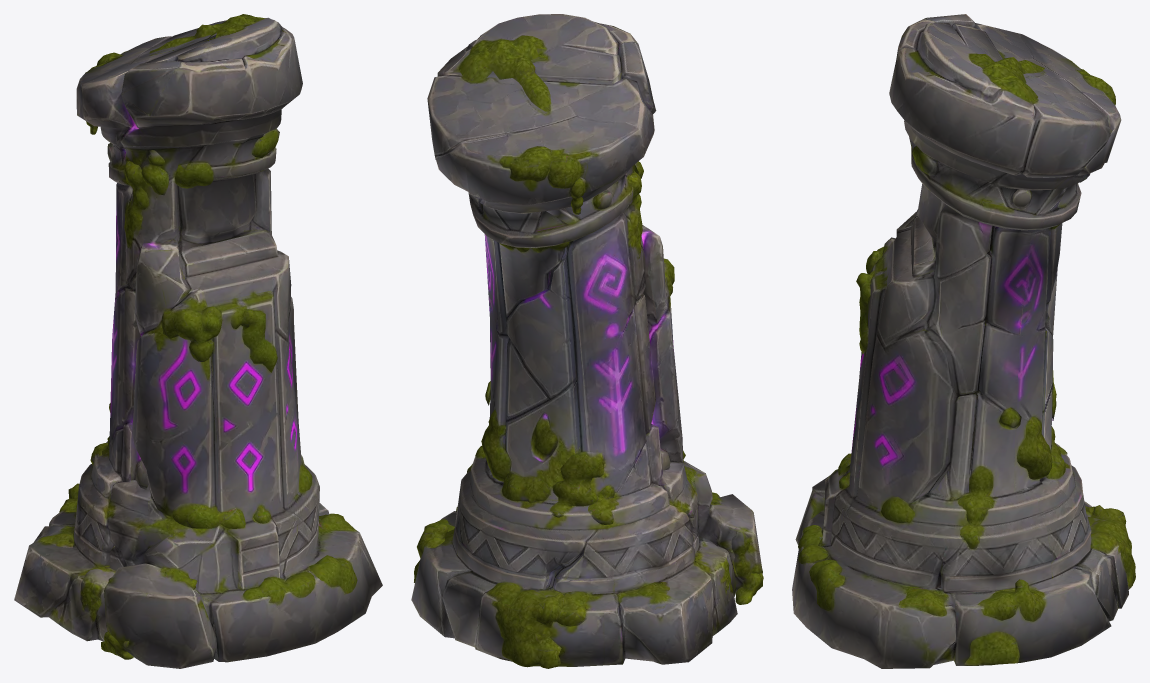
Rendered from dp_s_pilier.glb.
3 views of the same model, side by side, from view 1: azimuth 30°, elevation 25°; view 2: azimuth 150°, elevation 25°; view 3: azimuth 270°, elevation 25° (orthographic). The views are drawn at different scales.
Size of the model in its own units: 0.5195 by 0.9521 by 0.5186.
1 material, 1 textured.
